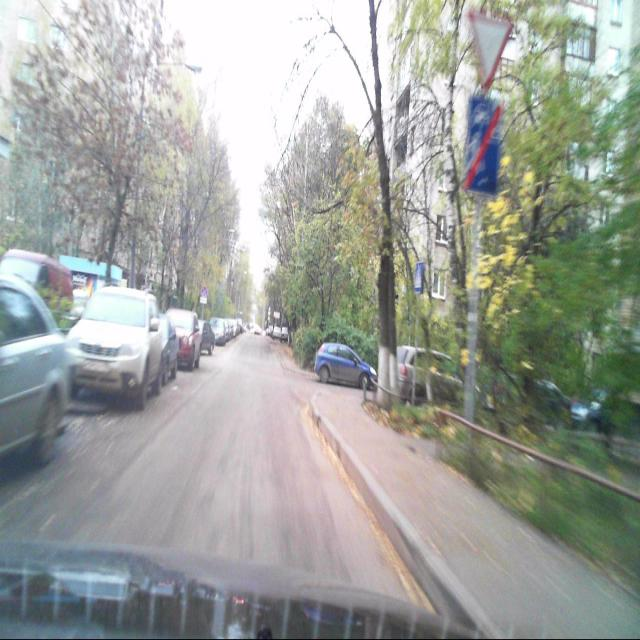road sign: (466, 8, 512, 95), (465, 96, 500, 197), (414, 261, 423, 293)
